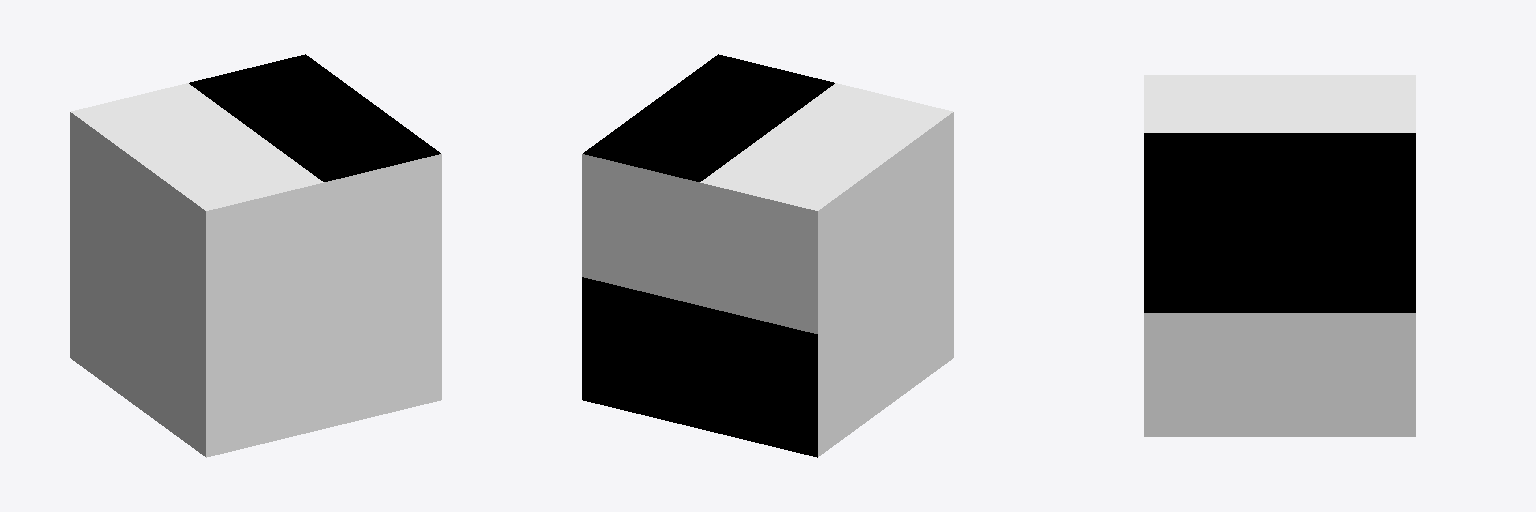
The picture shows the model from 3 angles: view 1: azimuth 30°, elevation 25°; view 2: azimuth 150°, elevation 25°; view 3: azimuth 270°, elevation 25°; orthographic projection.
Visible parts, largest first — view 1: Cube; view 2: Cube; view 3: Cube.
Part boxes in pixels (x1,y1,x2,y2): Cube: (70,54,441,457); Cube: (582,54,953,457); Cube: (1144,75,1415,436).
Bounding box in the file's own units: 2 × 2 × 2.
Materials: 1 (1 with a texture image).